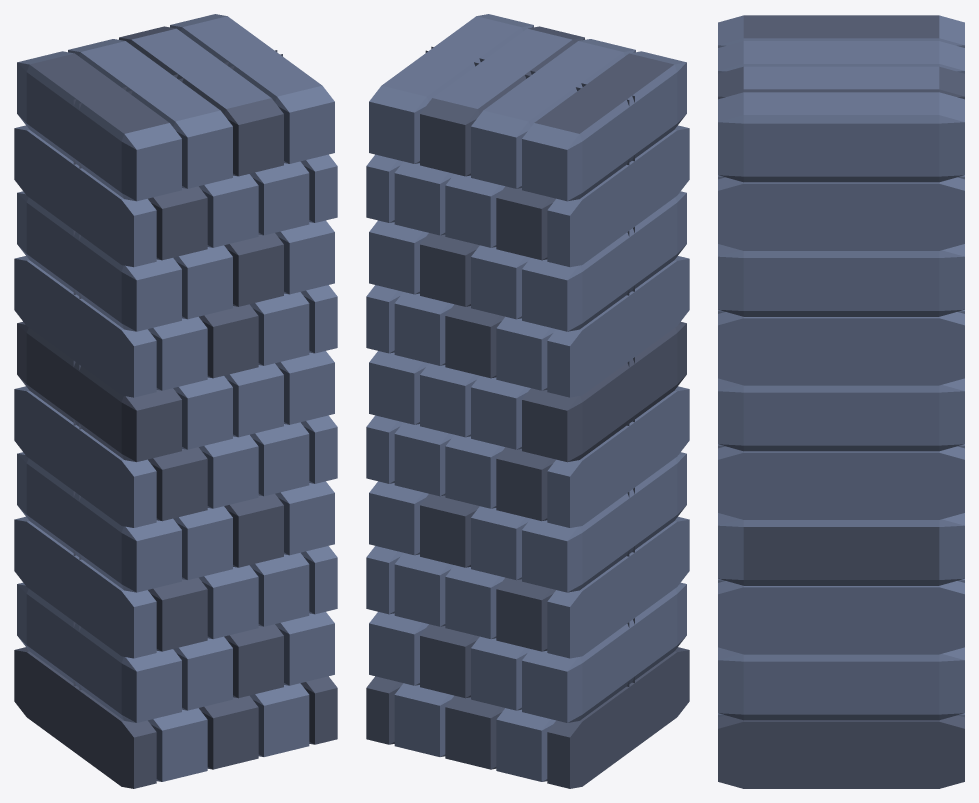
File: wall.glb
The picture shows the model from 3 angles, left to right: view 1: azimuth 30°, elevation 25°; view 2: azimuth 150°, elevation 25°; view 3: azimuth 270°, elevation 25°; orthographic projection. The views are drawn at different scales.
Visible parts, largest first — view 1: brick wall; view 2: brick wall; view 3: brick wall.
Part boxes in pixels (x1,y1,x2,y2): brick wall: [14, 14, 337, 788]; brick wall: [366, 14, 689, 788]; brick wall: [718, 15, 964, 788].
Bounding box in the file's own units: 1 × 3.06 × 1.02.
